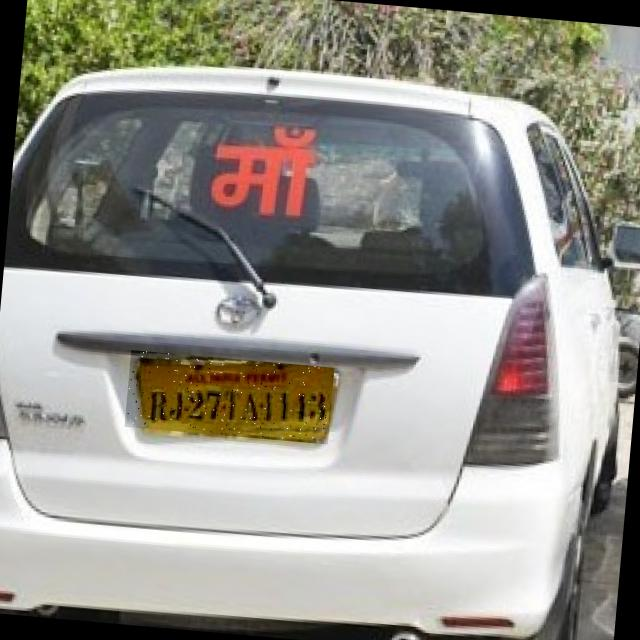Plate: (125, 351, 335, 445)
